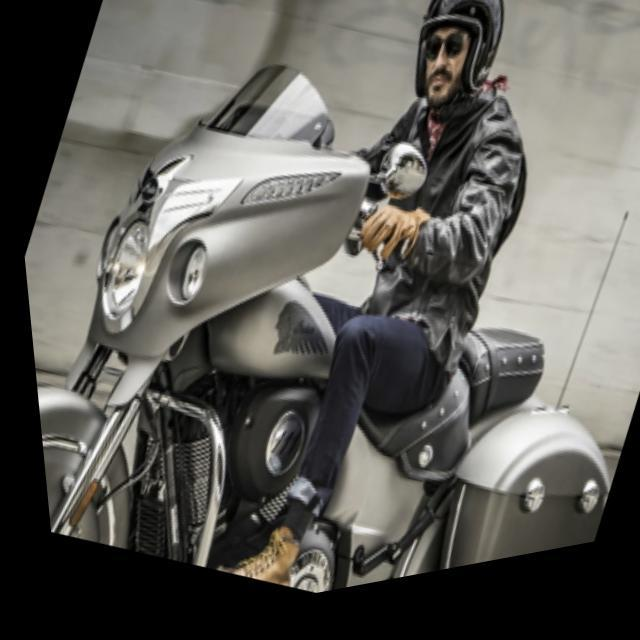Helmet: (403, 0, 509, 107)
